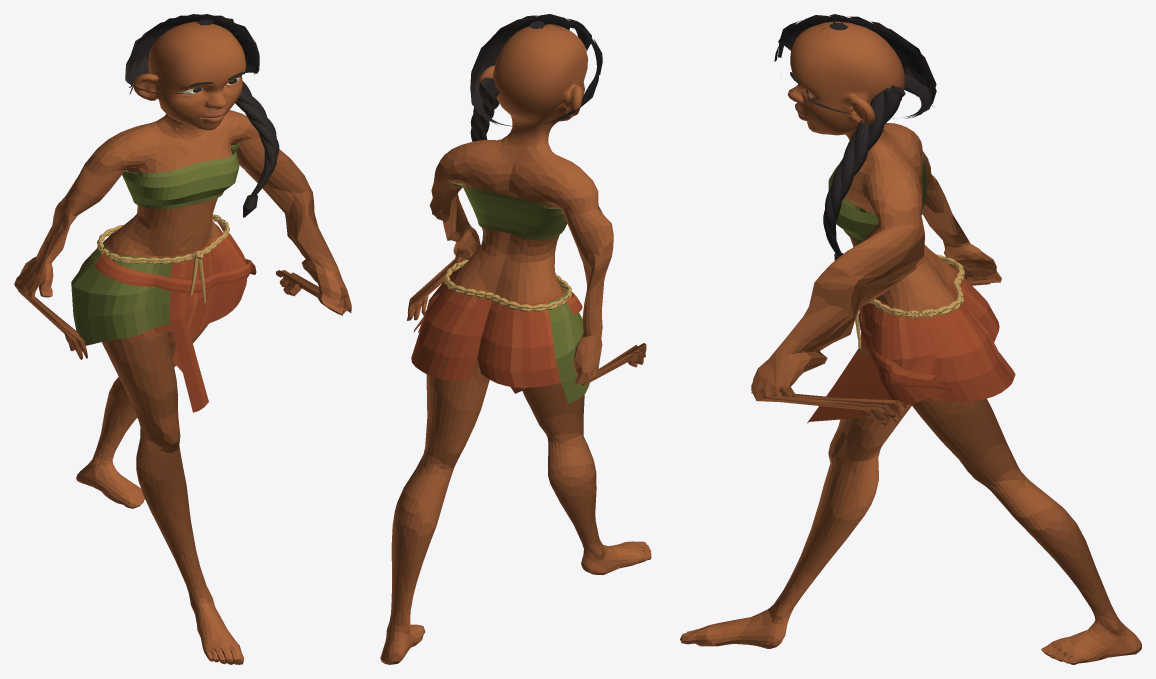
Rendered from mulher_03.glb.
3 views of the same model, side by side, from view 1: azimuth 30°, elevation 25°; view 2: azimuth 150°, elevation 25°; view 3: azimuth 270°, elevation 25° (orthographic). The views are drawn at different scales.
Parts seen in each view (by area): view 1: mulher_03_corpo; view 2: mulher_03_corpo; view 3: mulher_03_corpo.
Boxes of the visible parts, x1,y1,x2,y2 form: mulher_03_corpo: (14,14,351,664); mulher_03_corpo: (380,14,651,664); mulher_03_corpo: (680,14,1141,664).
Size of the model in its own units: 0.6785 by 1.63 by 1.07.
